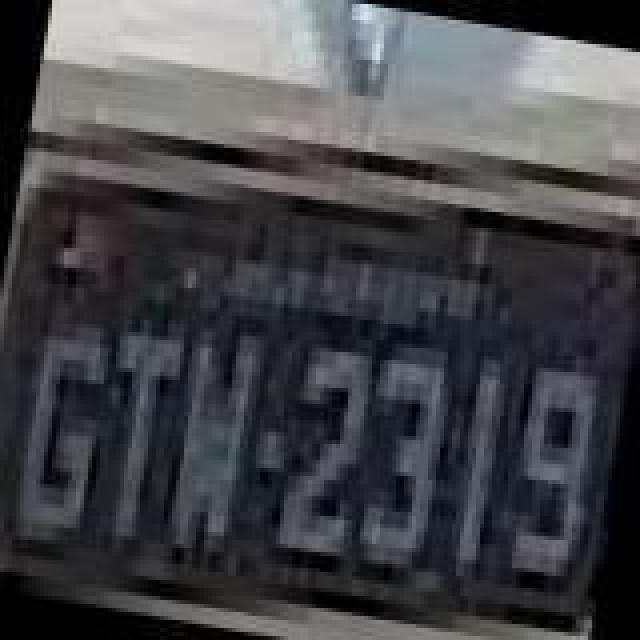1: (442, 356, 518, 588)
2: (266, 338, 382, 566)
3: (342, 346, 458, 582)
9: (494, 360, 610, 592)
G: (4, 314, 124, 558)
T: (82, 322, 190, 558)
W: (154, 314, 270, 574)
